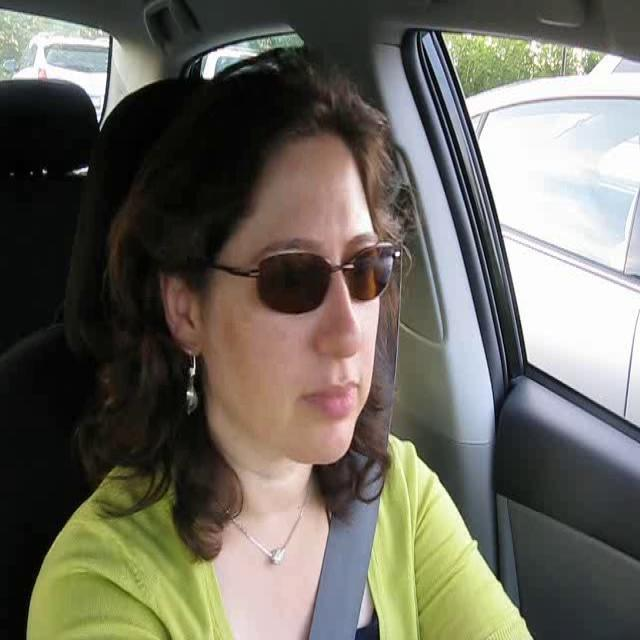close: (304, 377, 362, 419)
